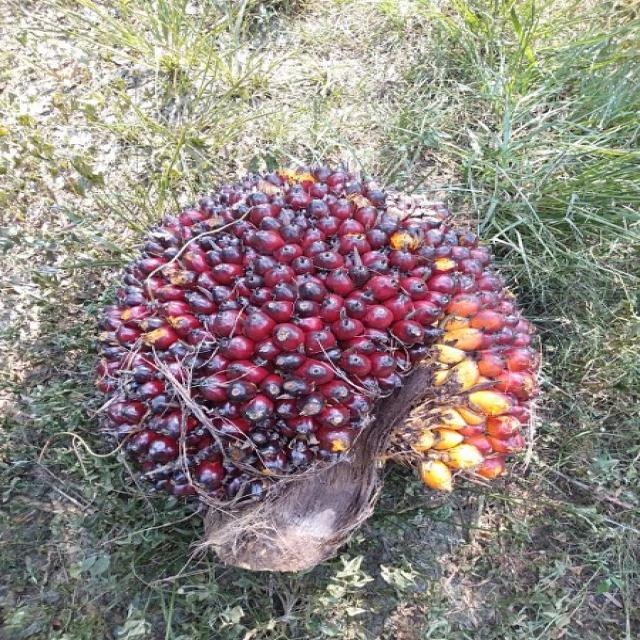fraksi 1: (93, 168, 544, 499)
